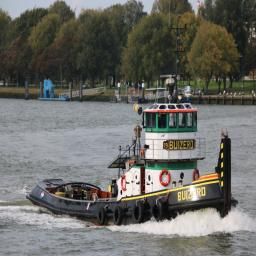tugboat: (25, 73, 241, 235)
